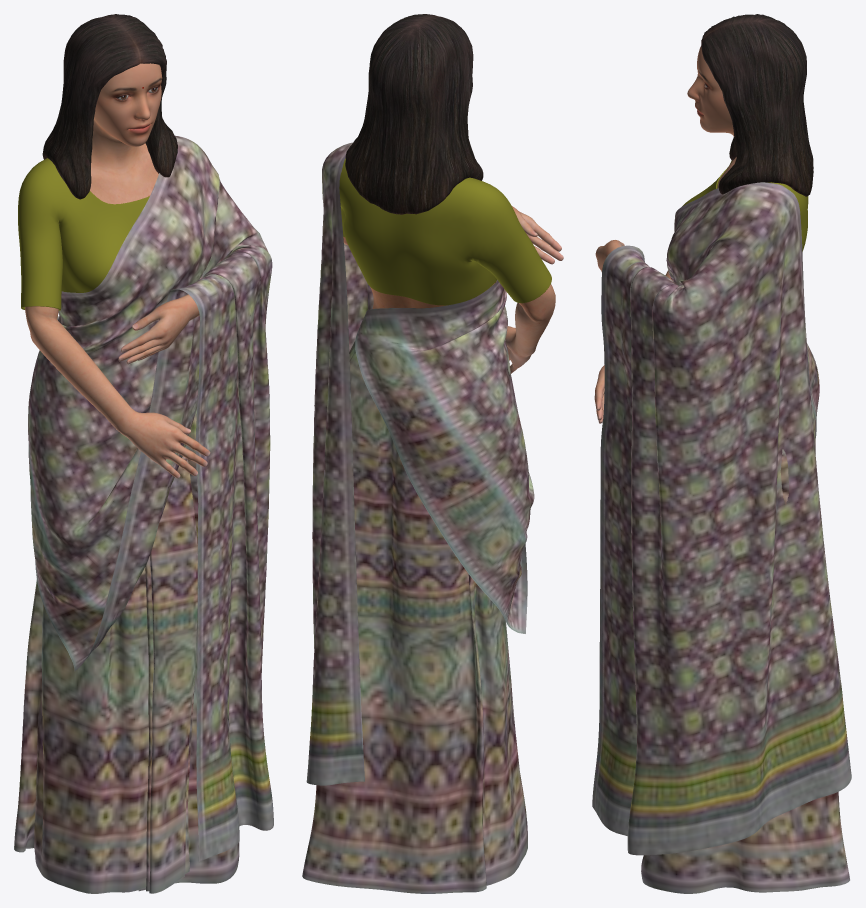
The model's file is Girl_3.gltf.
3 renders of one model, left to right at view 1: azimuth 30°, elevation 25°; view 2: azimuth 150°, elevation 25°; view 3: azimuth 270°, elevation 25°, orthographic.
Visible parts, largest first — view 1: Group1, Group2, BLUSE, hair; view 2: Group1, hair, BLUSE, Group2; view 3: Group1, hair, Group2, BLUSE.
Part boxes in pixels (x1,y1,x2,y2): Group1: (14,135,273,893); Group2: (25,63,210,478); BLUSE: (18,158,149,310); hair: (42,14,177,199); Group1: (302,142,534,893); hair: (345,14,483,214); BLUSE: (339,158,551,305); Group2: (343,206,563,373); Group1: (592,182,851,893); hair: (701,14,813,196); Group2: (594,46,736,423); BLUSE: (682,160,808,251).
Bounding box in the file's own units: 0.518 × 1.79 × 0.504.
Materials: 4 (4 with a texture image).
